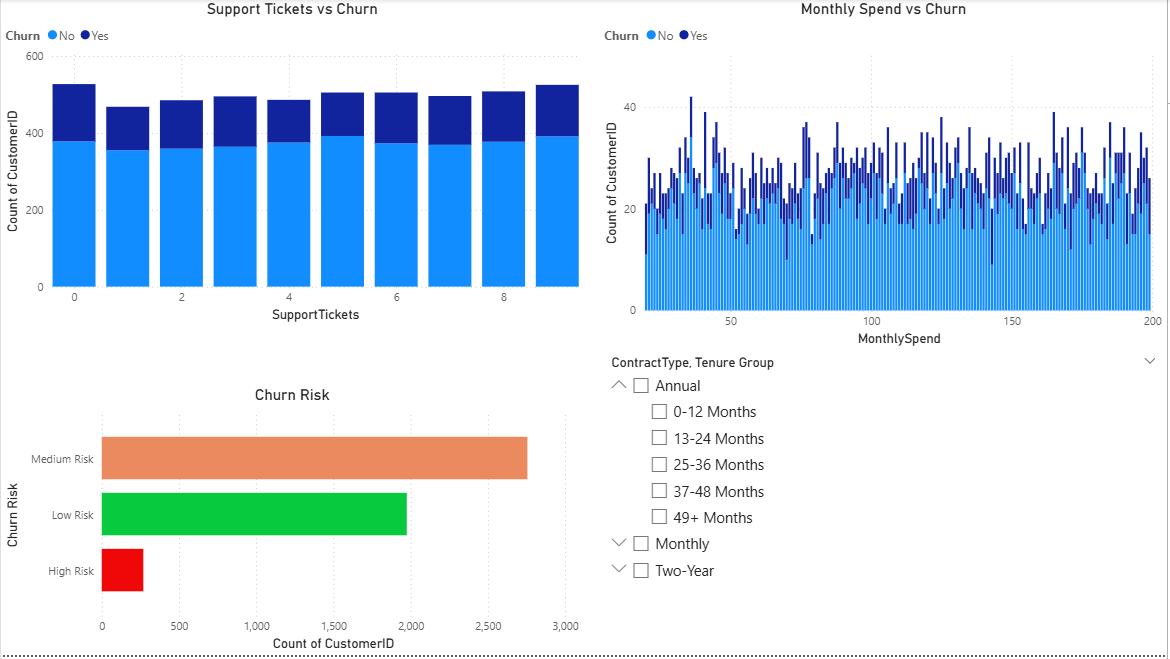

What the dashboard file says about the page in this screenshot:
{"tool":"powerbi","page":{"name":"Churn Drivers","canvas":[1280,720],"ordinal":1},"visuals":[{"type":"barChart","title":"Churn Risk","fields":{"Category":["customer_churn.Churn Risk"],"Y":["CountNonNull(customer_churn.CustomerID)"]},"box":[0,423.6,639.5,296.4],"z":0},{"type":"columnChart","title":"Support Tickets vs Churn","fields":{"Category":["customer_churn.SupportTickets"],"Series":["customer_churn.Churn"],"Y":["CountNonNull(customer_churn.CustomerID)"]},"box":[0,0,639.5,359.5],"z":1000},{"type":"columnChart","title":"Monthly Spend vs Churn","fields":{"Category":["customer_churn.MonthlySpend"],"Series":["customer_churn.Churn"],"Y":["CountNonNull(customer_churn.CustomerID)"]},"box":[657.3,0,623,385.6],"z":2000},{"type":"slicer","fields":{"Values":["customer_churn.ContractType","customer_churn.Tenure Group"]},"box":[657.3,385.6,623,334.8],"z":3000}]}

Visuals, with their boxes in screenshot pixels (x1, y1, x2, y2), scaled from the page's 1280x720 canvas onto the 1170x659 screenshot:
"Churn Risk" barChart: 0/388/585/658
"Support Tickets vs Churn" columnChart: 0/0/585/329
"Monthly Spend vs Churn" columnChart: 601/0/1169/353
slicer - customer_churn.ContractType x customer_churn.Tenure Group: 601/353/1169/658
